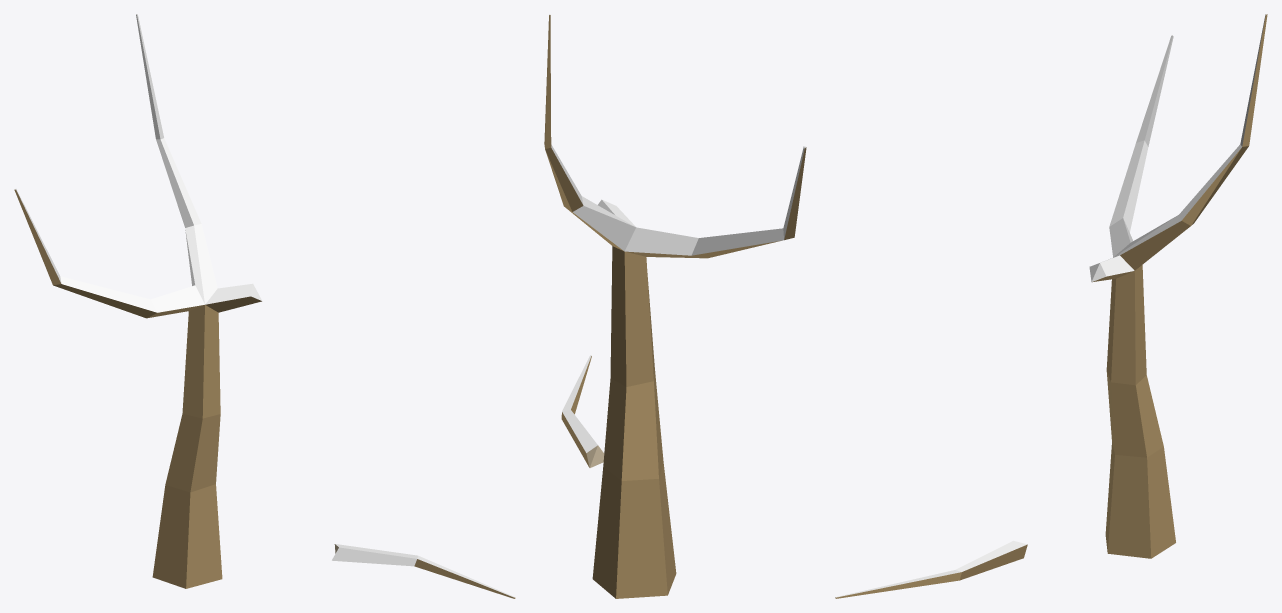
The model's file is Apple_Tree_NoLeaves_crk_m_Snow_02.fbx.
3 renders of one model, left to right at view 1: azimuth 30°, elevation 25°; view 2: azimuth 150°, elevation 25°; view 3: azimuth 270°, elevation 25°, orthographic. The views are drawn at different scales.
Visible parts, largest first — view 1: Apple_Tree_NoLeaves_crk_m_Snow_02; view 2: Apple_Tree_NoLeaves_crk_m_Snow_02; view 3: Apple_Tree_NoLeaves_crk_m_Snow_02.
Boxes of the visible parts, x1,y1,x2,y2 form: Apple_Tree_NoLeaves_crk_m_Snow_02: [14, 14, 515, 598]; Apple_Tree_NoLeaves_crk_m_Snow_02: [544, 14, 806, 598]; Apple_Tree_NoLeaves_crk_m_Snow_02: [835, 14, 1267, 598].
Bounding box in the file's own units: 306 × 440 × 322.
